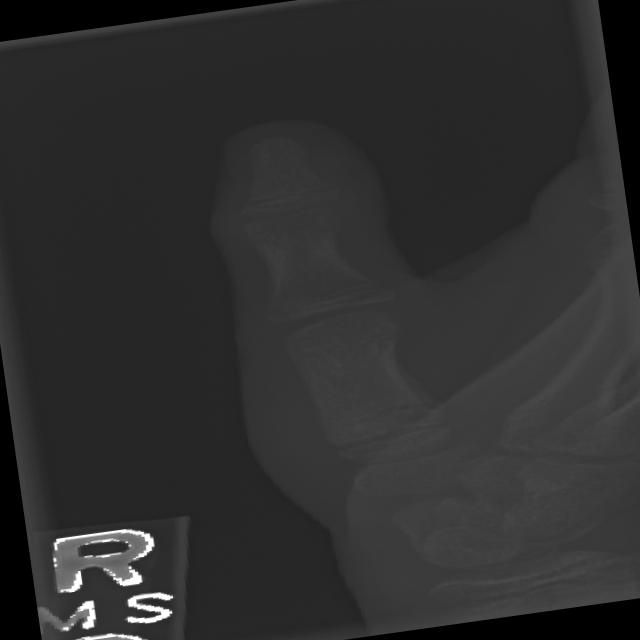fingers positive: (291, 379, 488, 453)
